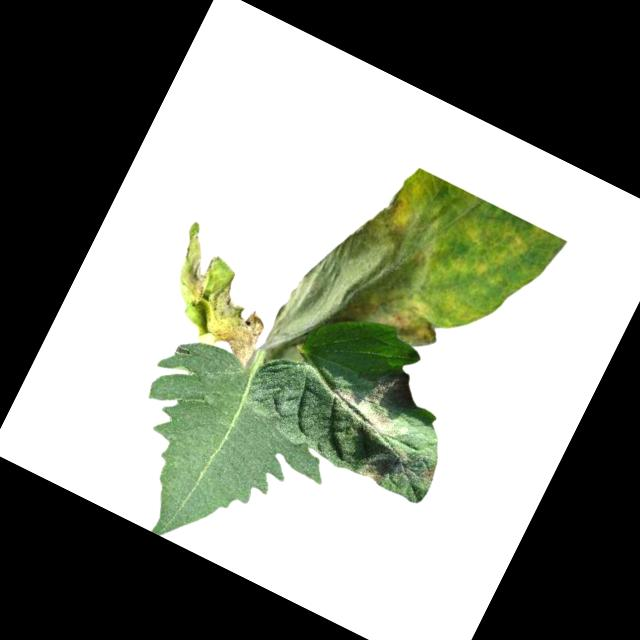Late_blight: (255, 137, 568, 455), (143, 218, 294, 367), (323, 385, 407, 442), (361, 373, 393, 408), (356, 458, 388, 487), (408, 457, 438, 486)
healthy: (87, 325, 353, 588)
